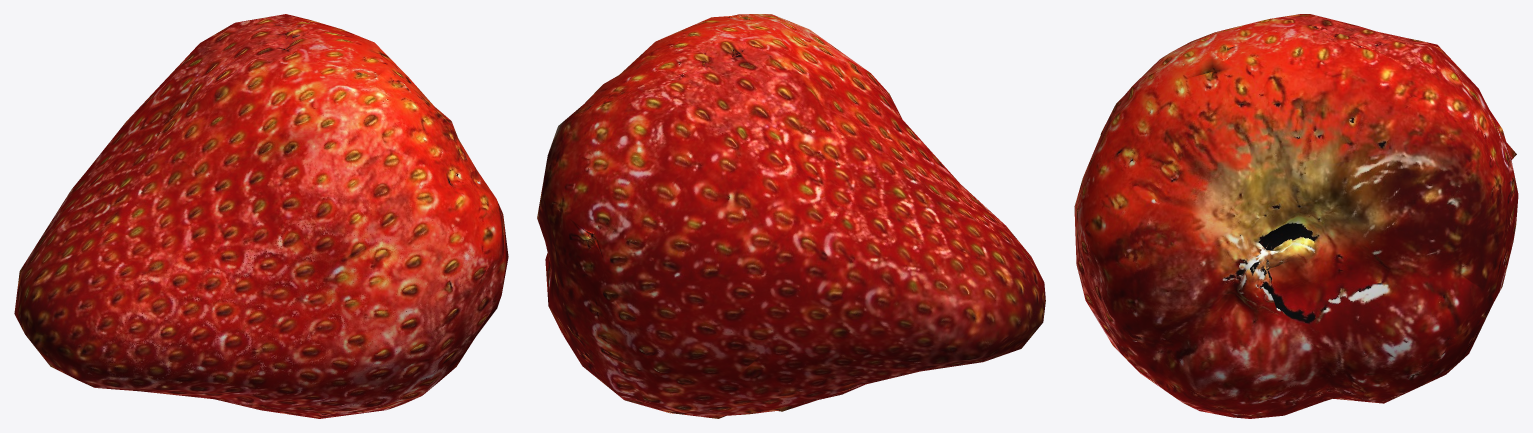
File: strawberry.gltf
3 views of the same model, side by side, from view 1: azimuth 30°, elevation 25°; view 2: azimuth 150°, elevation 25°; view 3: azimuth 270°, elevation 25° (orthographic). The views are drawn at different scales.
Parts seen in each view (by area): view 1: strawberry2; view 2: strawberry2; view 3: strawberry2.
Boxes of the visible parts, left/top/right/bottom form: strawberry2: left=14, top=14, right=508, bottom=418; strawberry2: left=537, top=14, right=1045, bottom=418; strawberry2: left=1074, top=14, right=1518, bottom=418.
Bounding box in the file's own units: 83.54 × 66.11 × 71.22.
1 material, 1 textured.
